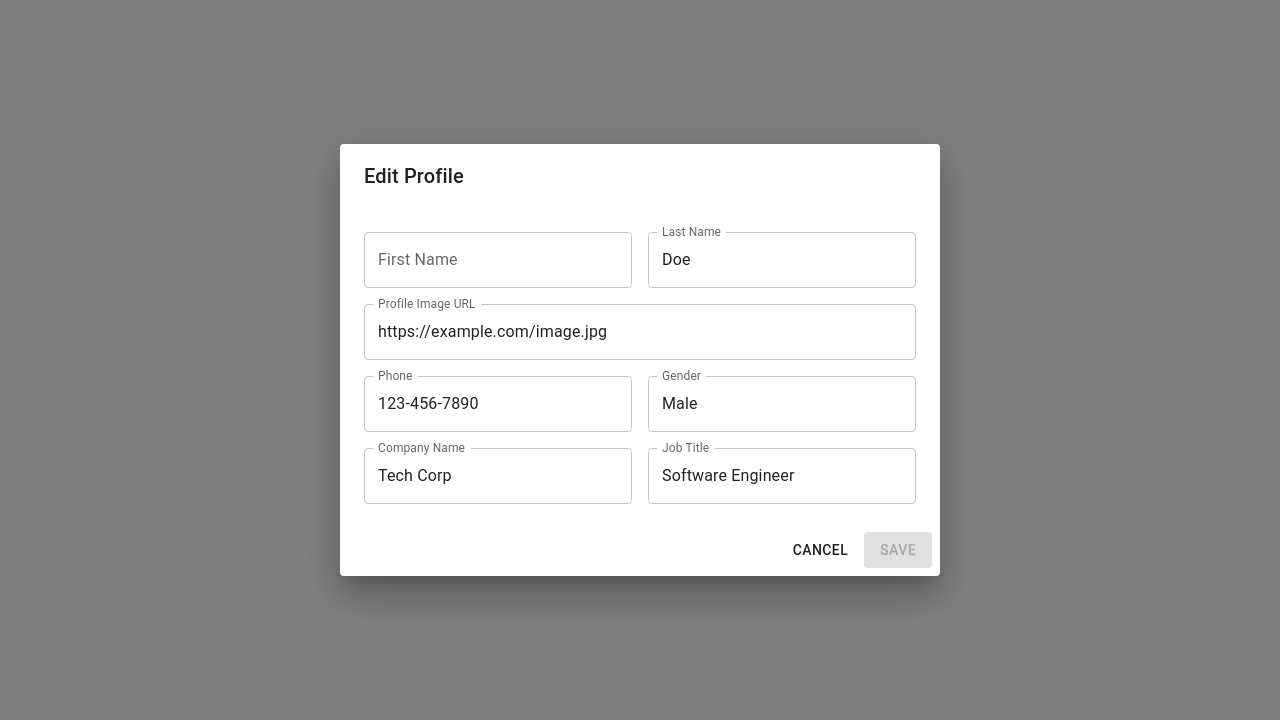
Scenario: EditProfileDialog Component › Form Validation › enables save button after filling empty field
This screenshot has width=1280, height=720.
Check: the button with test id "save-button" is disabled, box [864,532,932,568]
Type "NewName" into the field with test id "firstName-input". click: (498, 260)
box: [364,232,632,288]
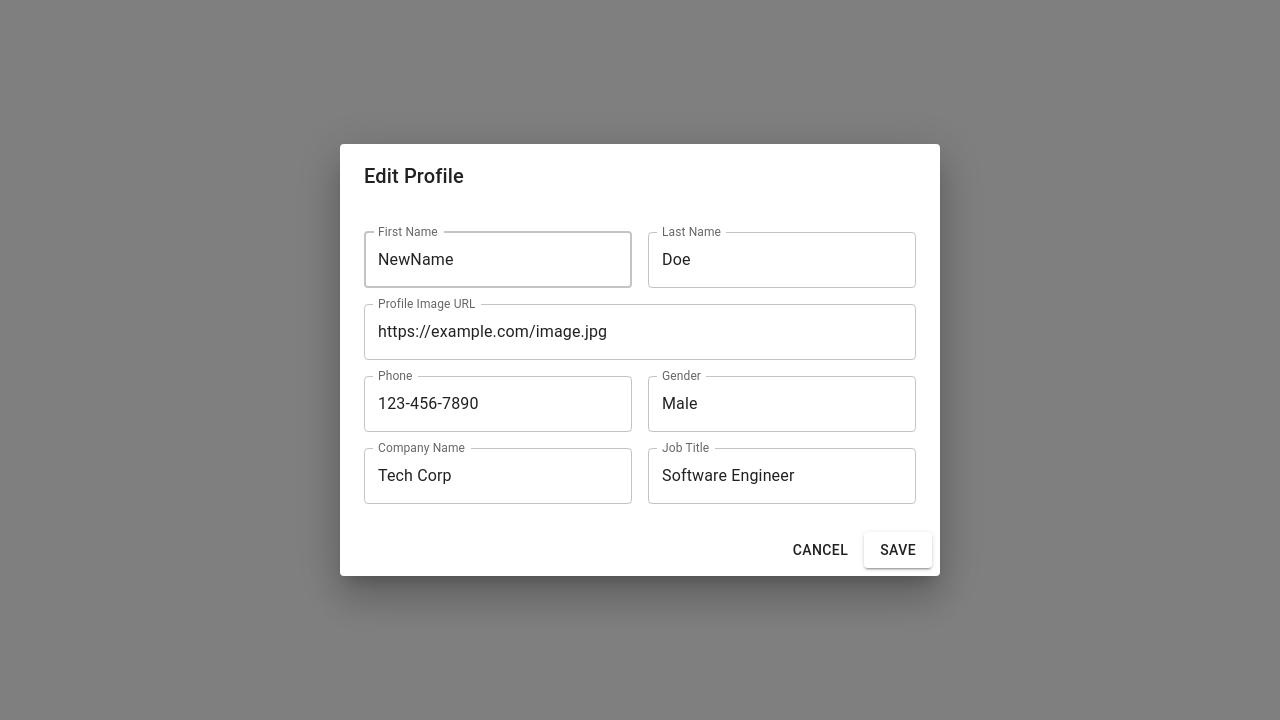
Check: the button with test id "save-button" is enabled, box [864,532,932,568]
